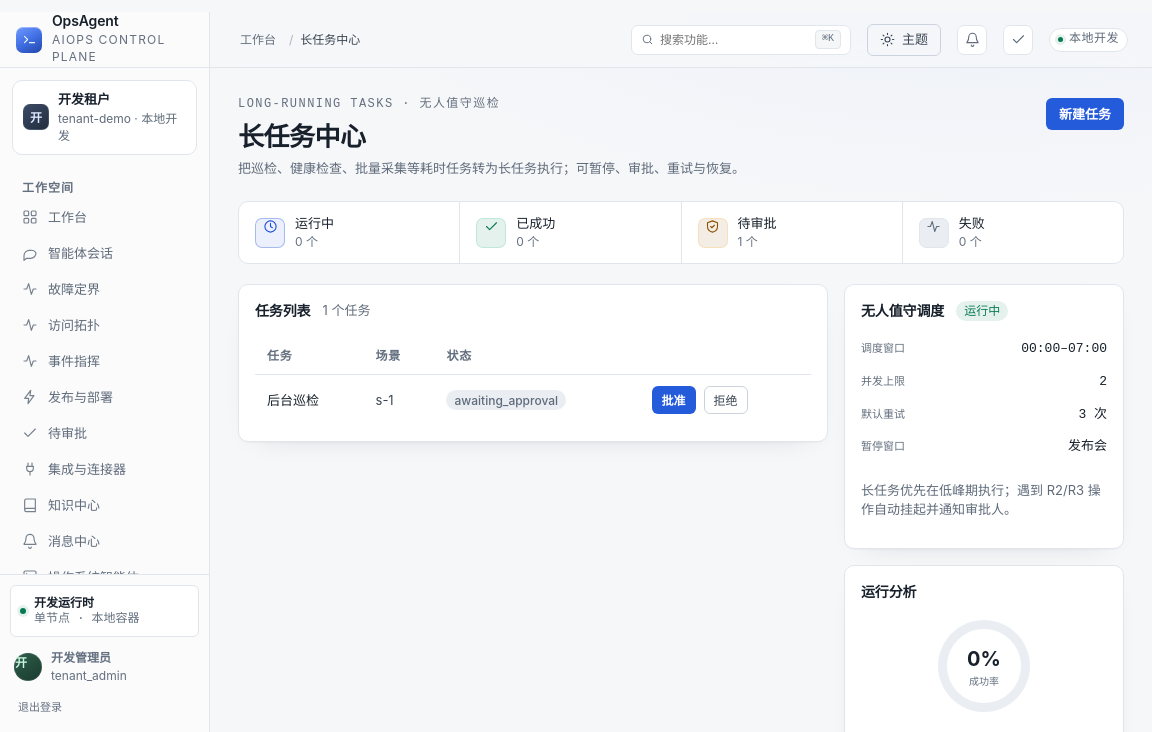
Tasks › lists tasks and approves an awaiting task
Check: the text "后台巡检" is shown, box left=255, top=375, right=364, bottom=425
Click the button "批准" at (674, 400), box left=652, top=386, right=696, bottom=414
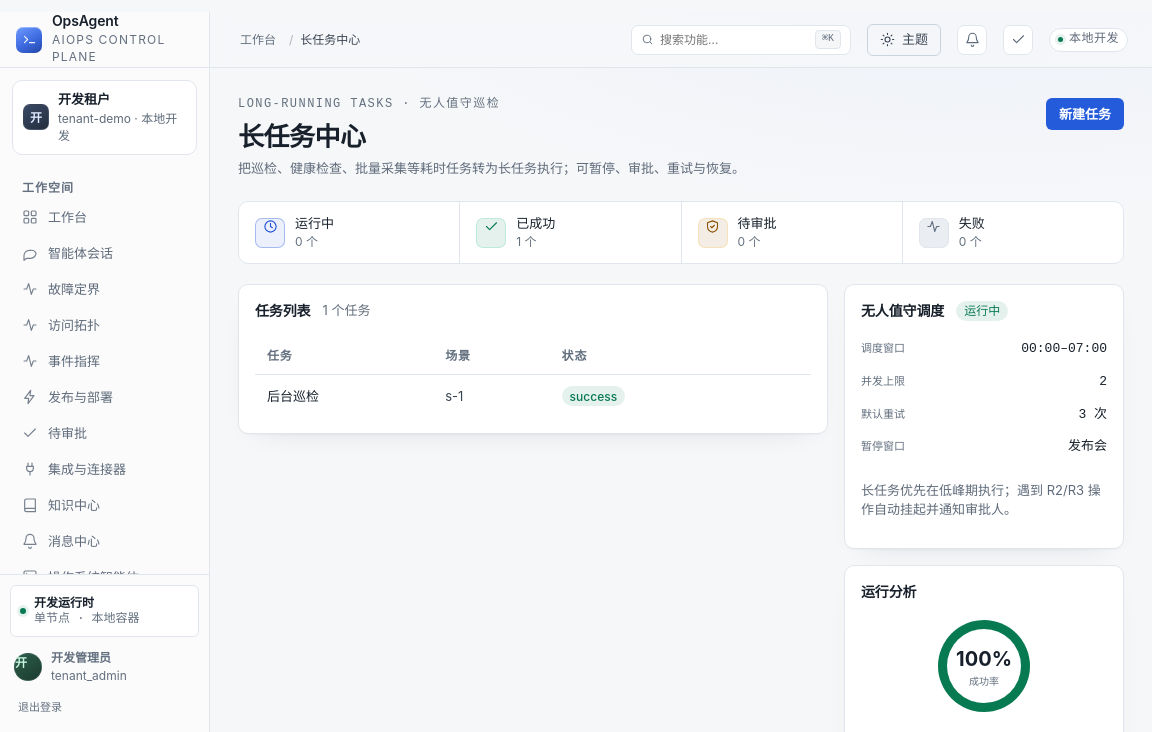
Check: the text "success" is shown, box left=562, top=386, right=625, bottom=406
